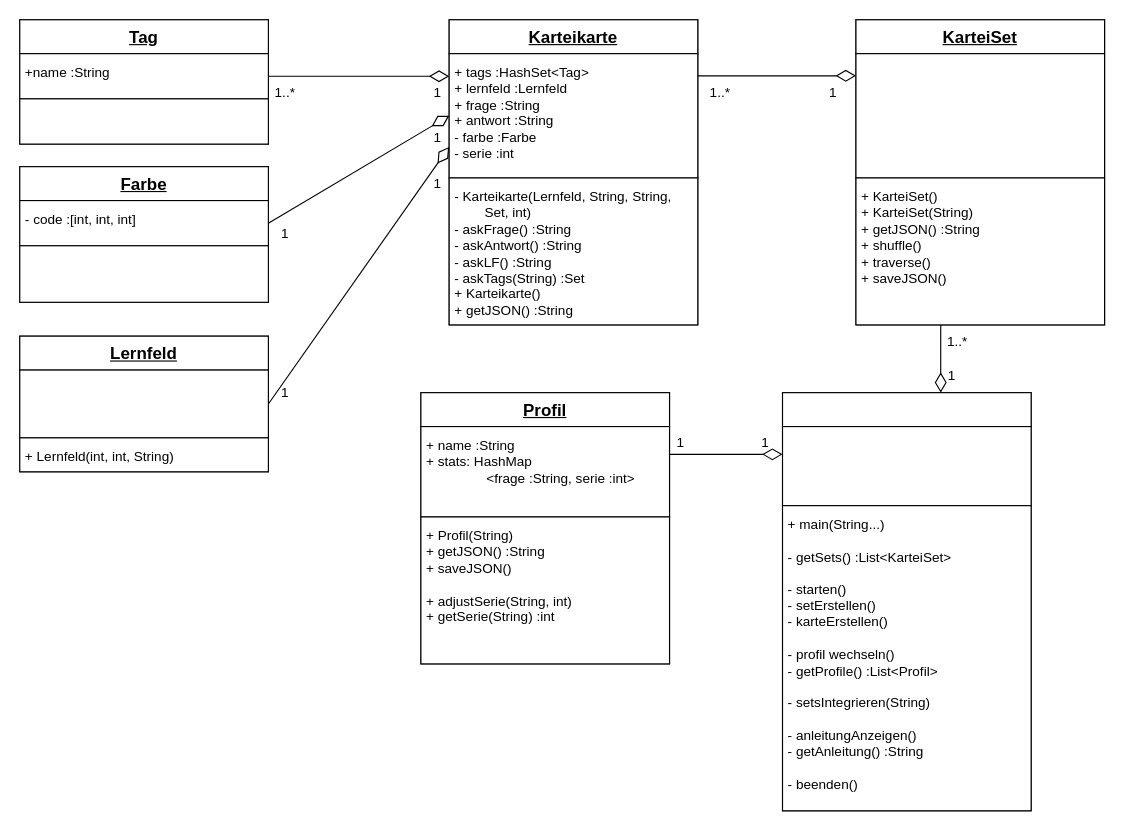
Image size: 1124x831. Some labels were removed from this diagram. Each missing label, with the centre of its shape:
+ karten :List<Karteikarte> + name :String + info :String: the point at 980,115
+ zahl1 :int + zahl2 :int + name :String: the point at 143,403
+Tag(String): the point at 143,121
- Farbe(int, int, int) + Farbe(int): the point at 143,273
- version :String - profil :Profil - sets :List<KarteiSet>: the point at 906,465
MainMenu: the point at 906,409
